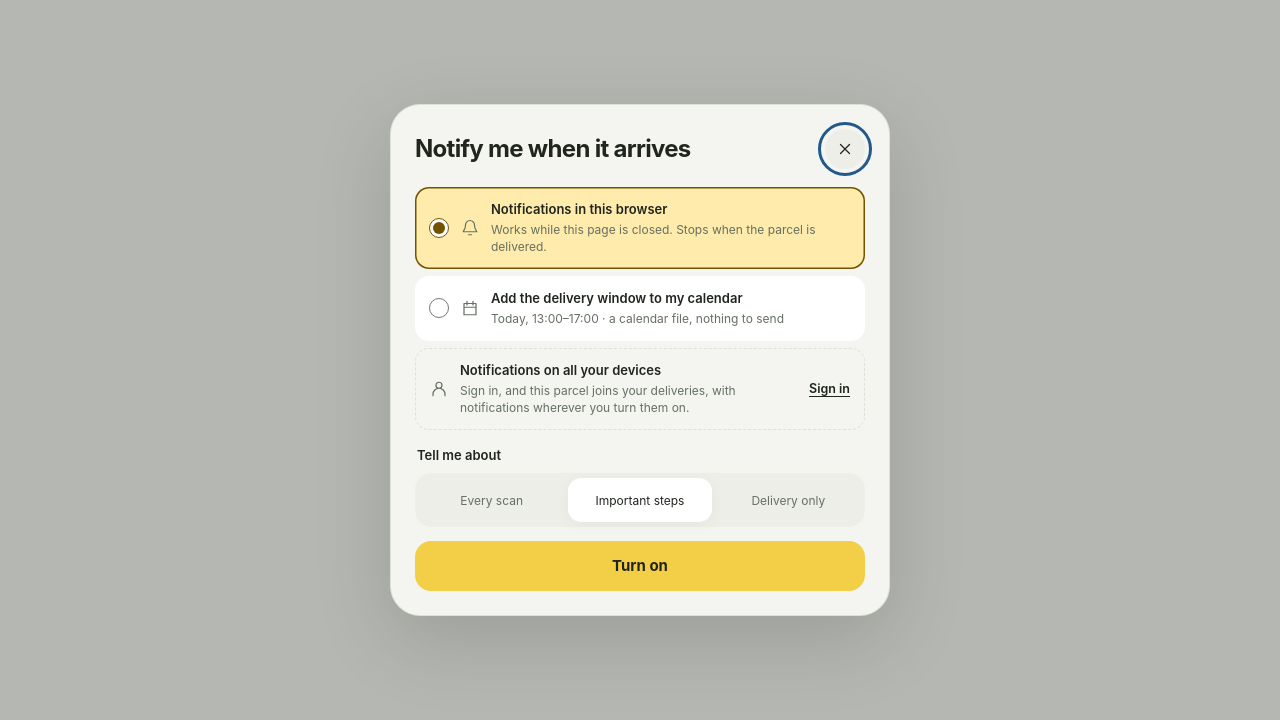
Test: the Notify me sheet › offers this browser’s notifications and the calendar, chooses what to hear about, and asks the browser only on “Turn on”
This screenshot has width=1280, height=720.
Expected: the radio button labelled "Notifications in this browser" is checked, [429,218,449,238]
Expected: the text "Works while this page is closed. Stops when the parcel is delivered." is shown, [491,222,851,256]
What coordinates should you click on to do the following:
click the button "Delivery only"
I would click on:
 (788, 500)
Its box is [717,478,860,522].
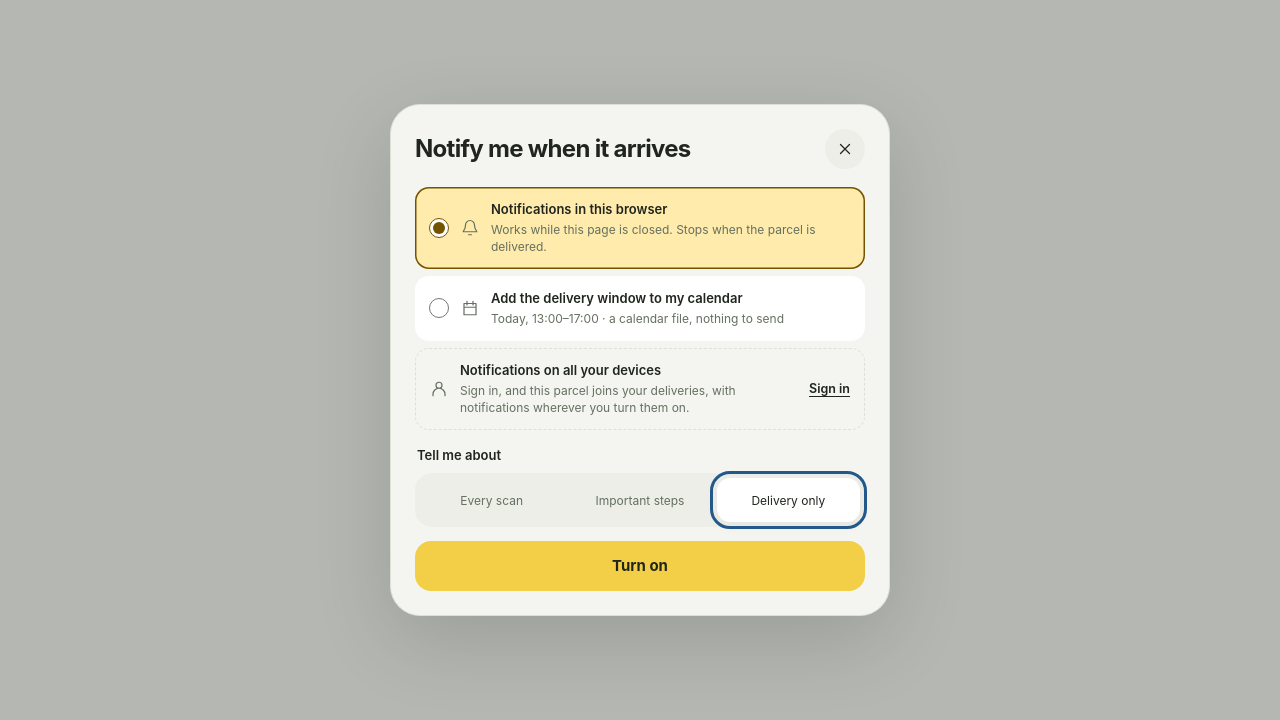
Result: the button "Delivery only" is pressed at [717,478,860,522]
What coordinates should you click on to do the following:
click the button "Turn on"
I would click on:
 (640, 566)
Its box is [415,542,865,592].
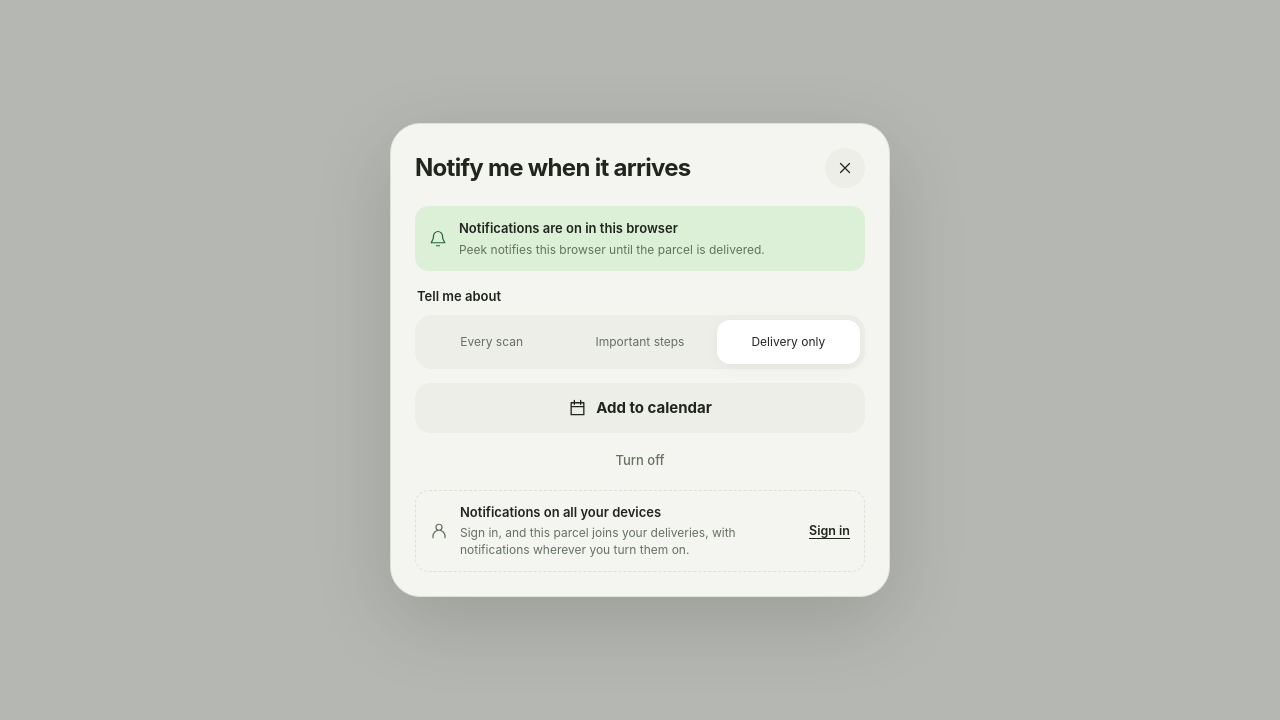
Result: the text "Notifications are on in this browser" is shown at [459,220,678,236]
Result: the text "Peek notifies this browser until the parcel is delivered." is shown at [459,242,765,256]
Result: the button "Turn on" is gone
